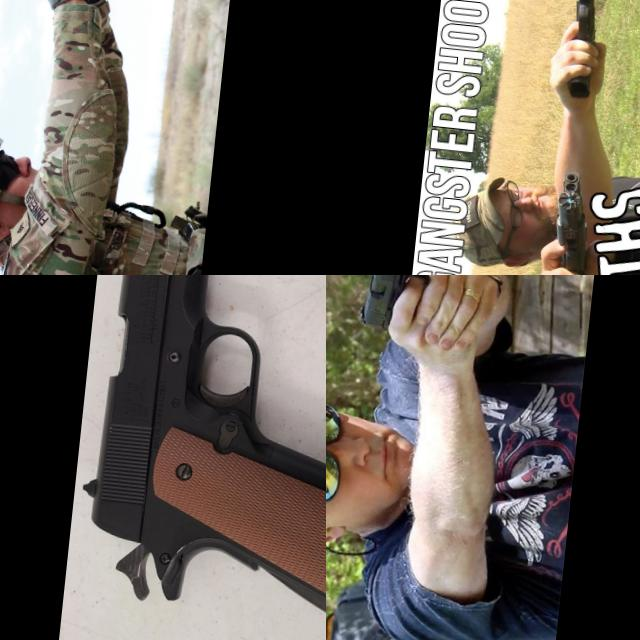handgun: (66, 275, 326, 634), (546, 164, 597, 275), (355, 275, 435, 336), (6, 0, 68, 59), (568, 0, 607, 52)
